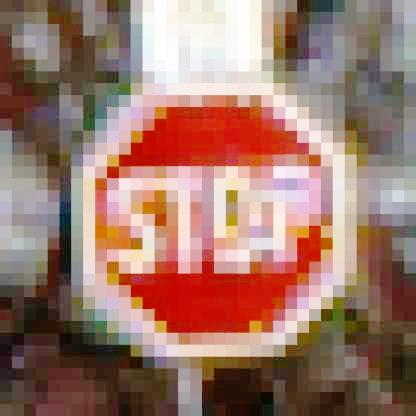Stop Sign: (82, 77, 356, 363)
